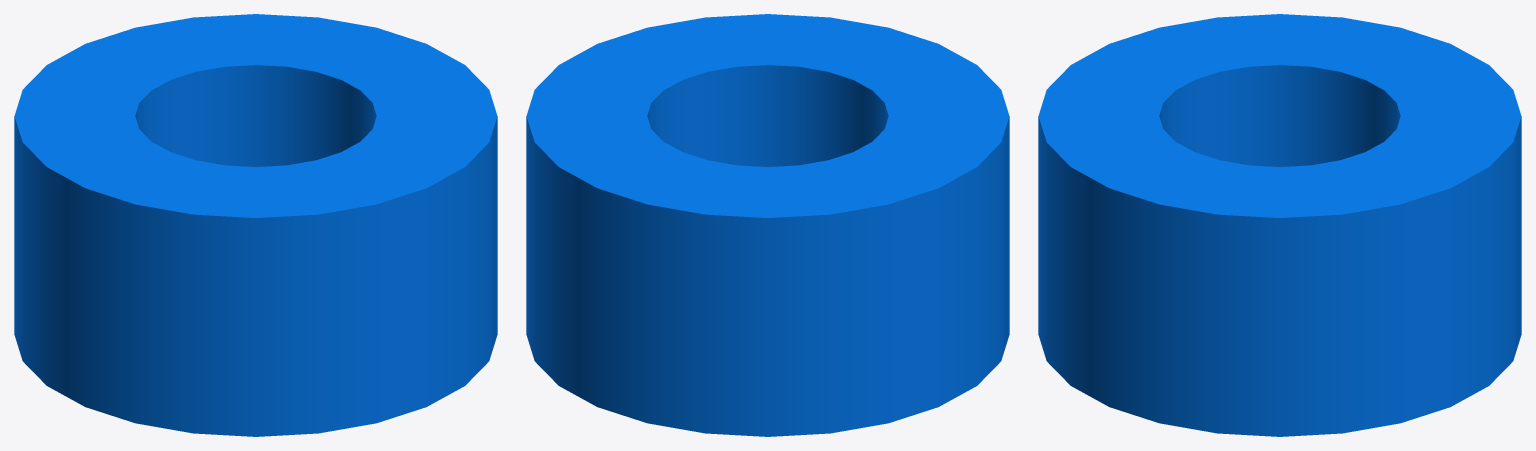
File: Joint2.dae
3 views of the same model, side by side, from view 1: azimuth 30°, elevation 25°; view 2: azimuth 150°, elevation 25°; view 3: azimuth 270°, elevation 25° (orthographic).
Visible parts, largest first — view 1: SketchUp (×2); view 2: SketchUp (×2); view 3: SketchUp (×2).
Part boxes in pixels (box(x1,y1,x2,y2)): SketchUp (×2): box(14, 14, 497, 436); SketchUp (×2): box(526, 14, 1009, 436); SketchUp (×2): box(1038, 14, 1521, 436).
Size of the model in its own units: 0.2 by 0.2 by 0.1.
